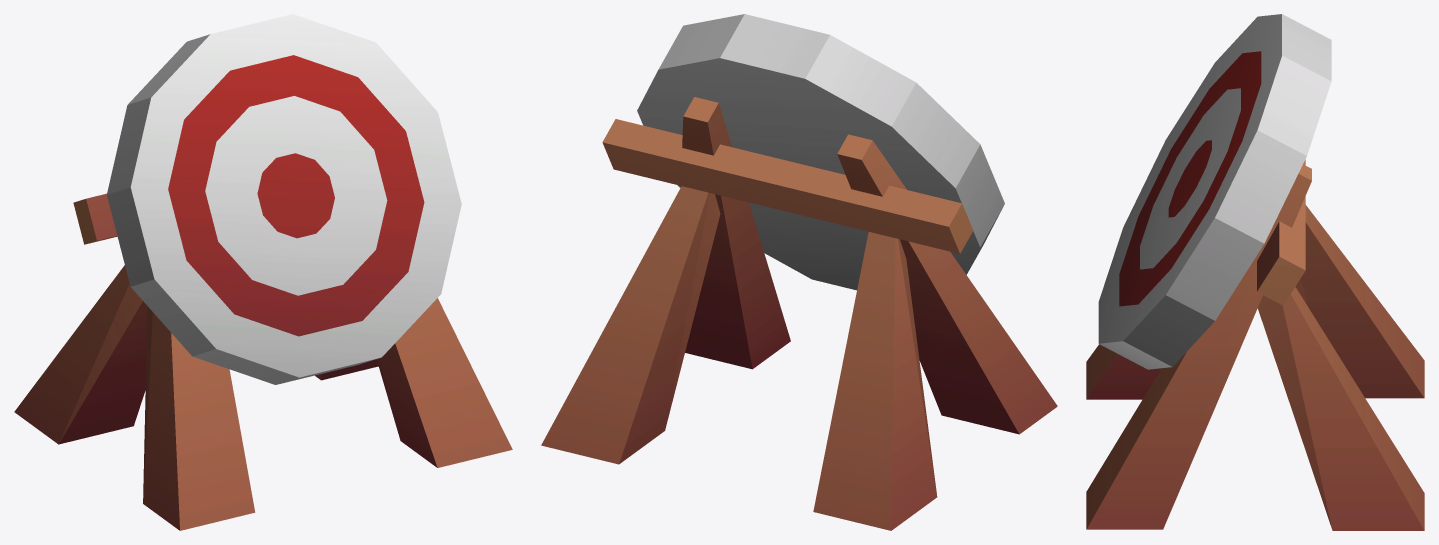
The model's file is target.glb.
3 views of the same model, side by side, from view 1: azimuth 30°, elevation 25°; view 2: azimuth 150°, elevation 25°; view 3: azimuth 270°, elevation 25° (orthographic). The views are drawn at different scales.
Visible parts, largest first — view 1: target; view 2: target; view 3: target.
Part boxes in pixels (box(x1,y1,x2,y2)): target: box(14, 14, 512, 530); target: box(541, 14, 1057, 530); target: box(1086, 14, 1424, 530).
Size of the model in its own units: 0.7849 by 0.8815 by 0.6572.
Materials: 1 (1 with a texture image).
